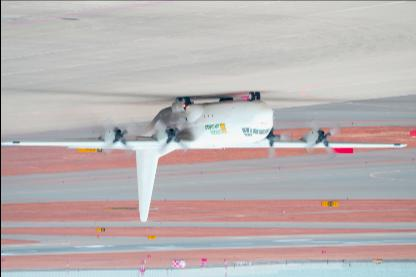Be200: (1, 91, 407, 222)
